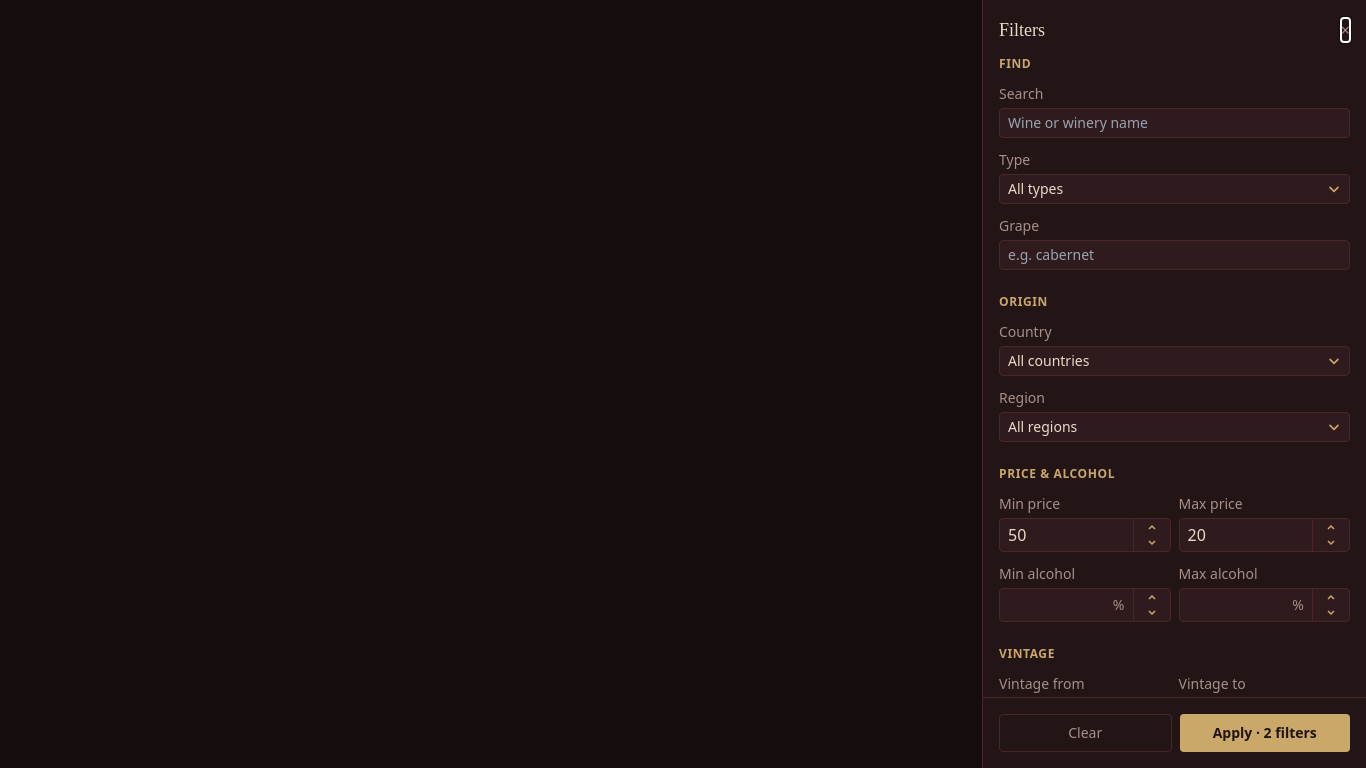
it: FilterDrawer › does not apply an inverted price range
The width and height of the screenshot is (1366, 768).
Click the button "Apply · 2 filters" at (1265, 733), box [1180,714,1350,752]
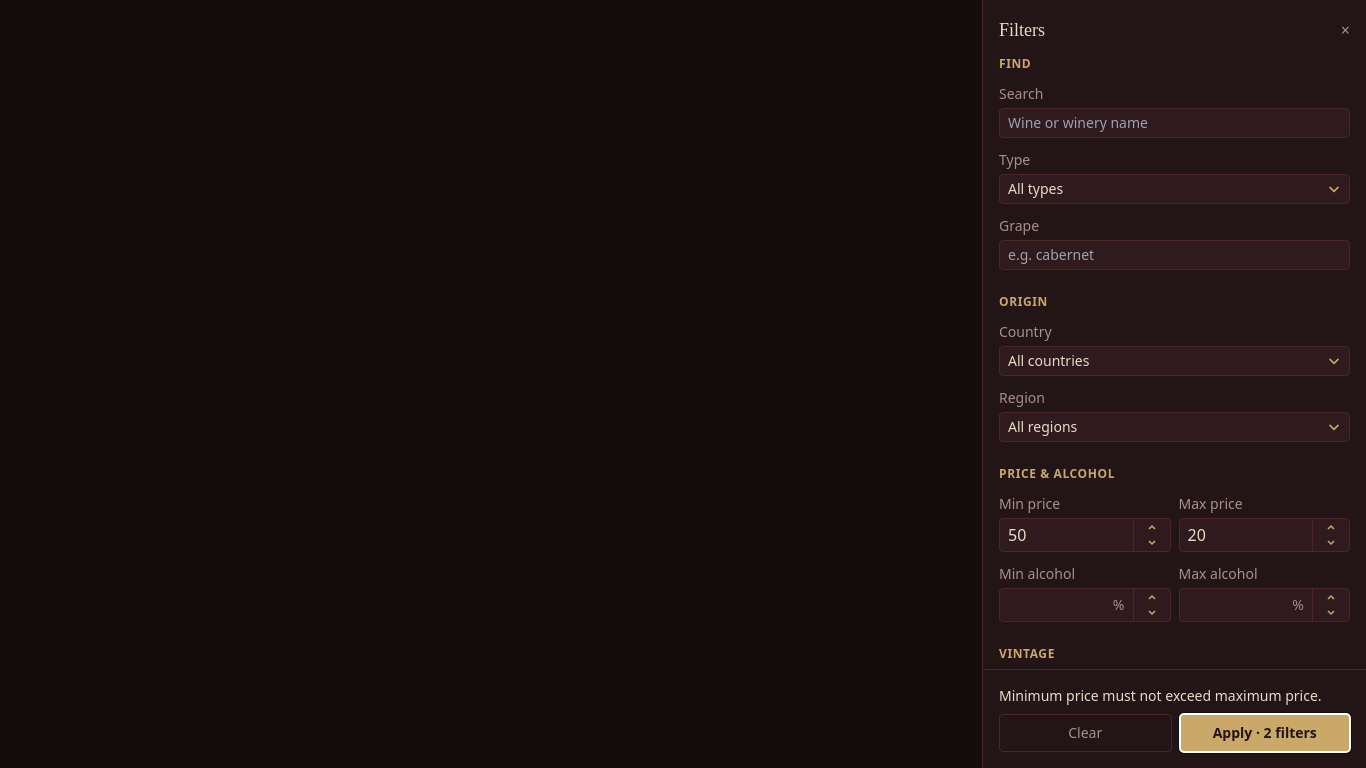
Expected: the message reads "Minimum price must not exceed maximum price.", [999,686,1322,705]
